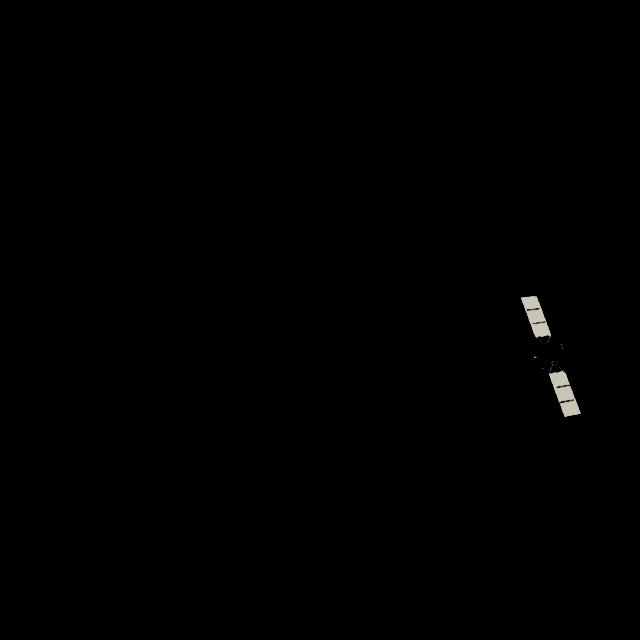medium_debris: (523, 296, 578, 418)
